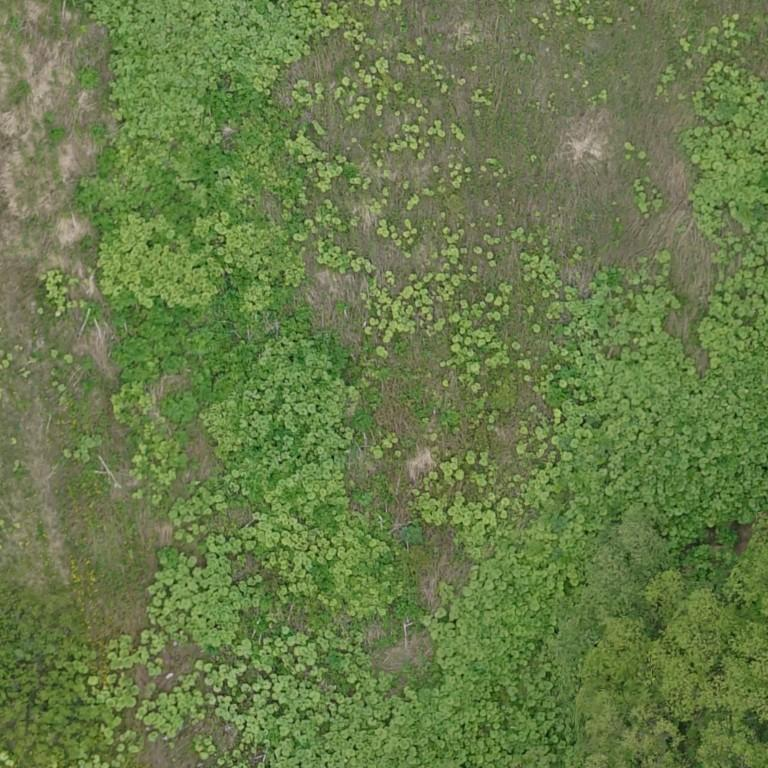hogweed: (113, 291, 269, 420), (154, 173, 230, 235), (280, 308, 348, 375), (205, 76, 278, 127), (198, 146, 237, 184), (393, 597, 422, 618)
